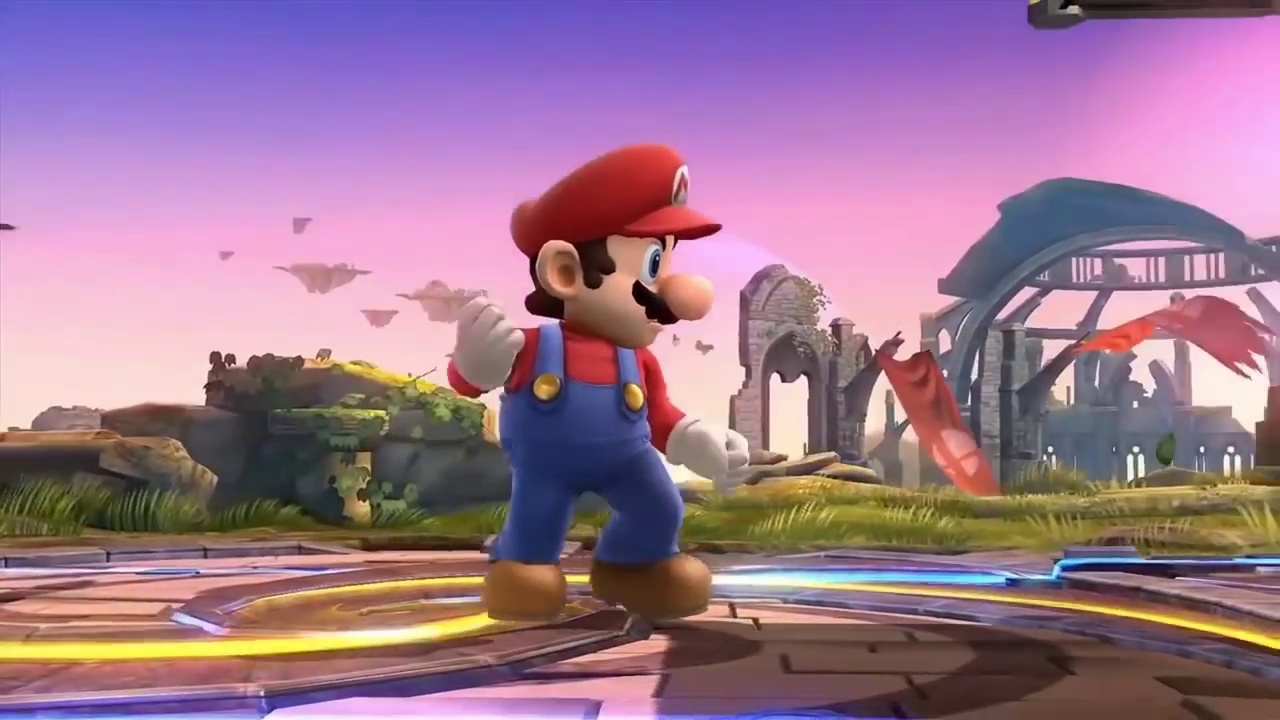Mario: (447, 141, 750, 624)
